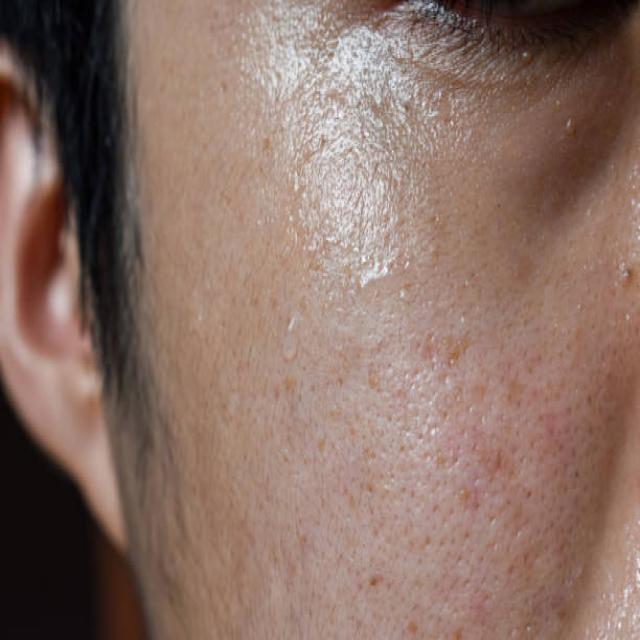dry: (224, 75, 421, 427), (470, 252, 620, 520), (310, 472, 474, 640)
